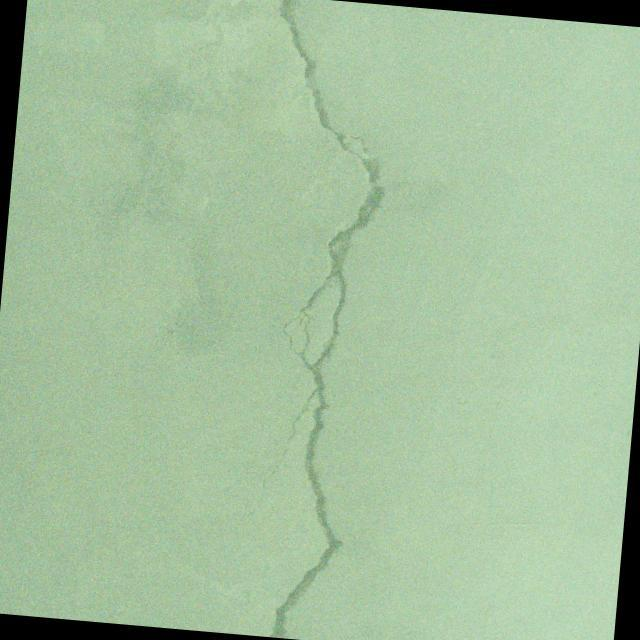crack: (223, 0, 402, 640)
